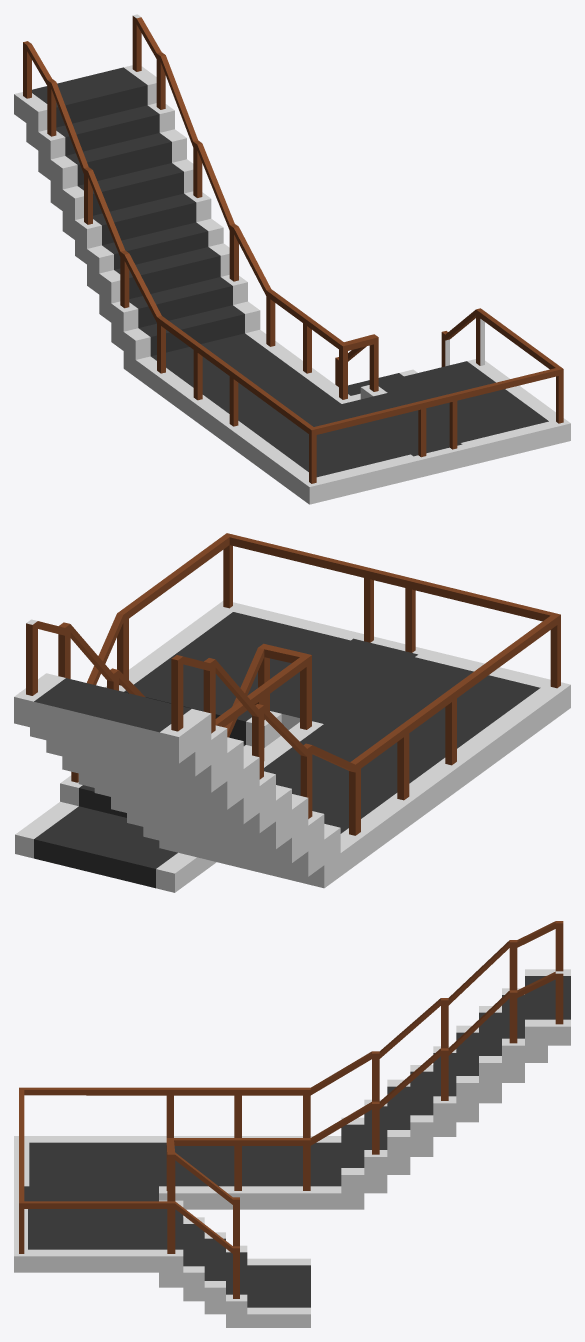
Rendered from StairsV1B.fbx.
3 views of the same model, one above another, from view 1: azimuth 30°, elevation 25°; view 2: azimuth 150°, elevation 25°; view 3: azimuth 270°, elevation 25° (orthographic). The views are drawn at different scales.
Visible parts, largest first — view 1: Cube; view 2: Cube; view 3: Cube.
Part boxes in pixels (x1,y1,x2,y2): Cube: (14,14,570,504); Cube: (14,533,570,892); Cube: (14,921,570,1327).
Bounding box in the file's own units: 1160 × 1299 × 2271.
